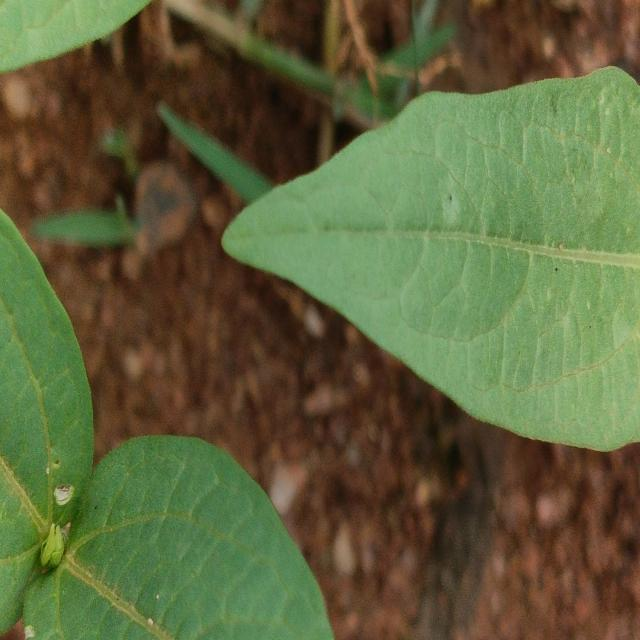Black gram_healthy: (222, 63, 640, 452)
